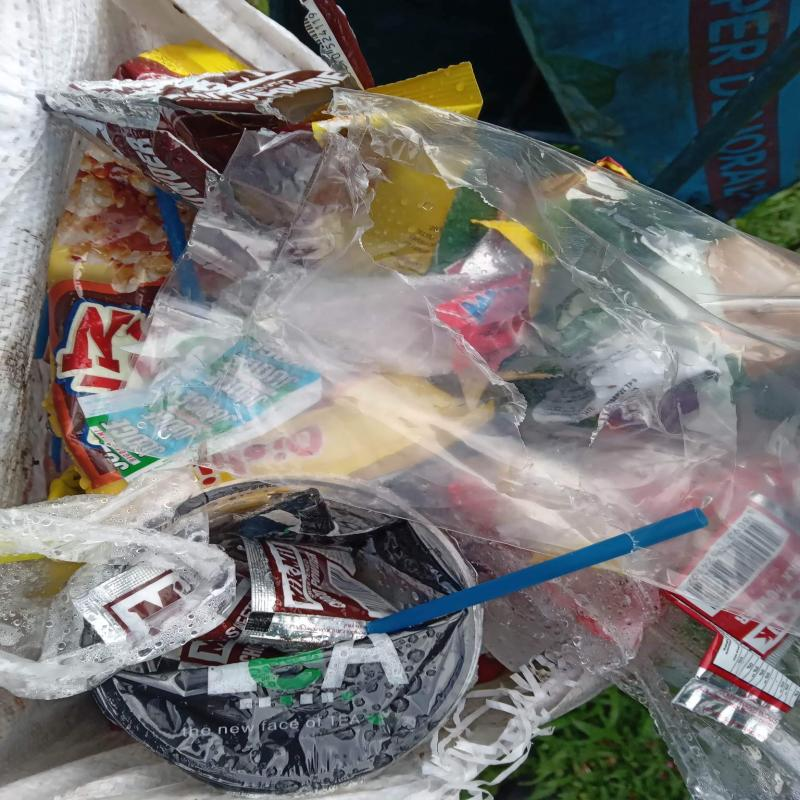food wrapper: (47, 155, 186, 489), (35, 69, 349, 211), (661, 592, 795, 743), (241, 531, 398, 618)
plastic bag: (106, 86, 795, 638)
plastic straw: (367, 509, 710, 636)
